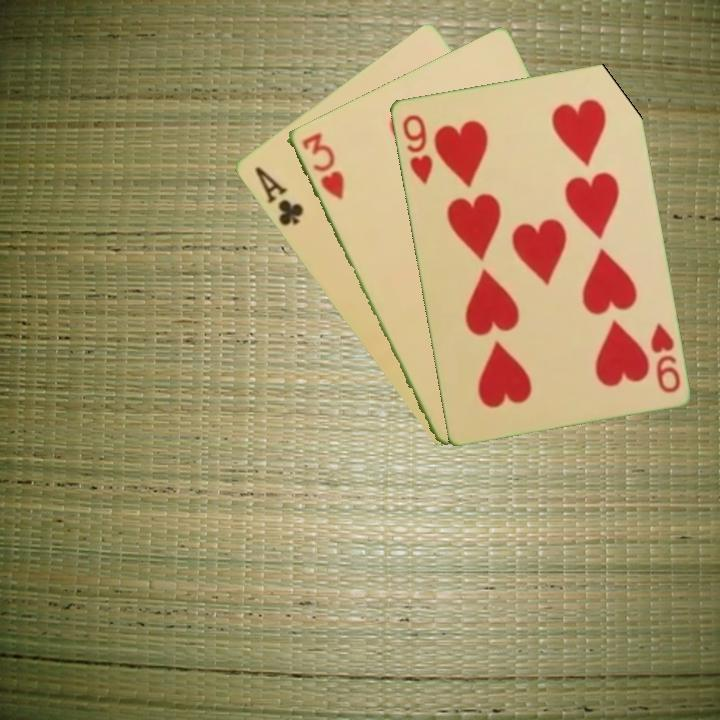3h: (298, 128, 347, 203)
9h: (646, 319, 683, 396), (398, 111, 435, 187)
Ac: (250, 163, 306, 229)
